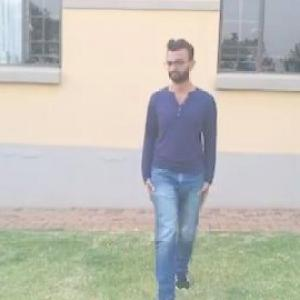follow: (136, 21, 226, 299)
